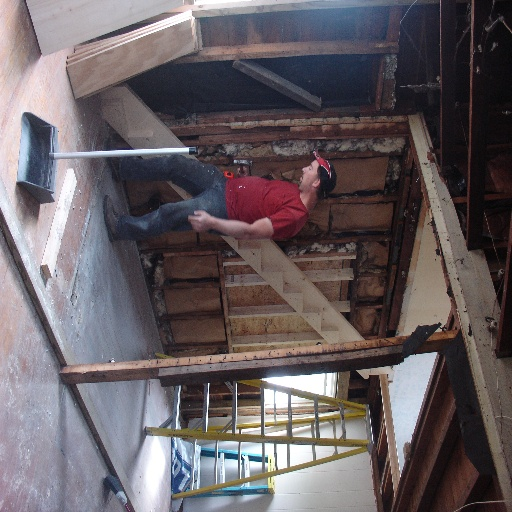hand: (189, 208, 208, 229), (236, 165, 248, 178)
